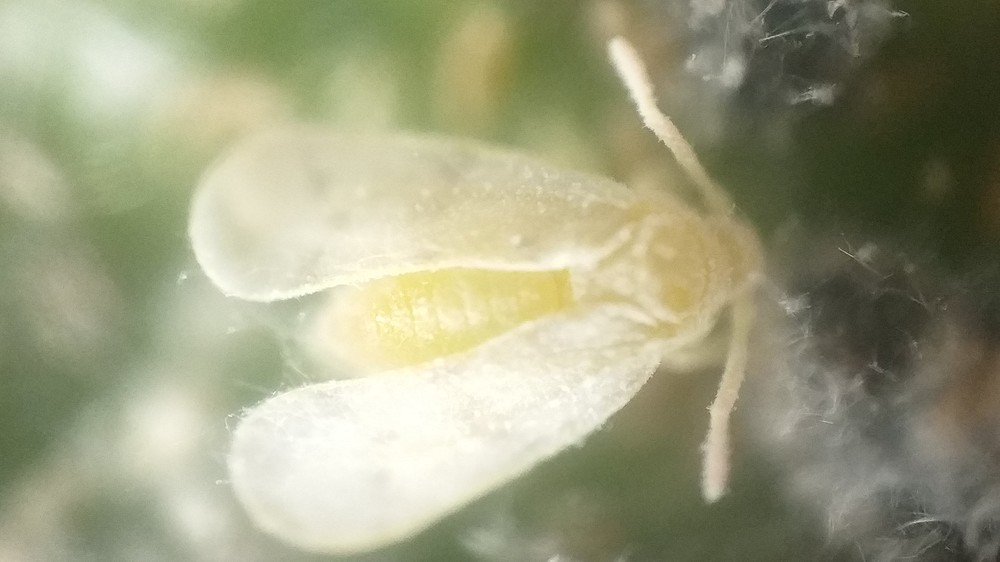Mosca Blanca: (175, 33, 781, 557)
